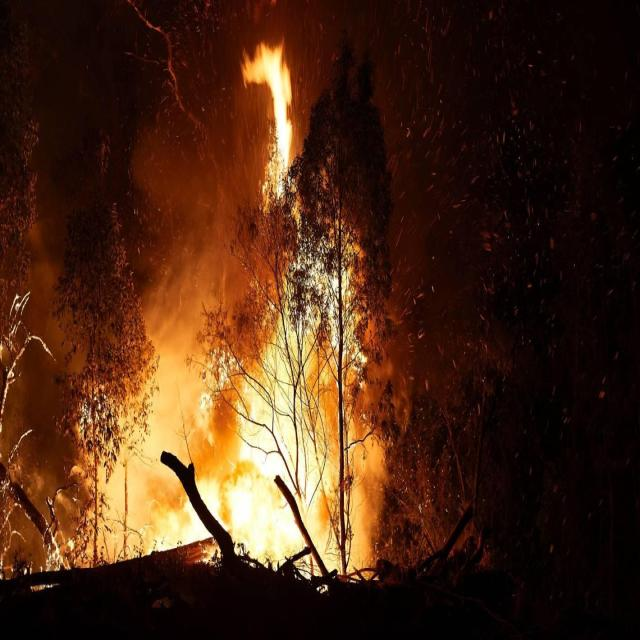Fire: (80, 314, 390, 583), (235, 33, 293, 167)
